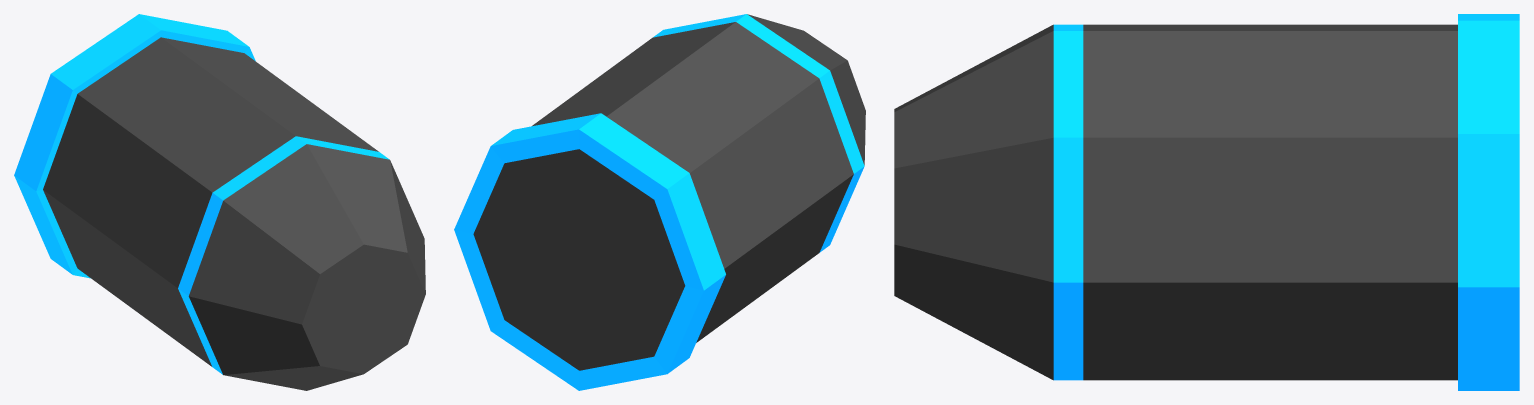
The model's file is bullet_Model.fbx.
3 renders of one model, left to right at view 1: azimuth 30°, elevation 25°; view 2: azimuth 150°, elevation 25°; view 3: azimuth 270°, elevation 25°, orthographic. The views are drawn at different scales.
Parts seen in each view (by area): view 1: Metal, Glowing; view 2: Metal, Glowing; view 3: Metal, Glowing.
Part boxes in pixels (x1,y1,x2,y2): Metal: (43,37,425,390); Glowing: (14,14,389,374); Metal: (473,14,865,370); Glowing: (454,14,864,390); Metal: (894,24,1457,380); Glowing: (1053,14,1519,390).
Size of the model in its own units: 102 by 158 by 102.
